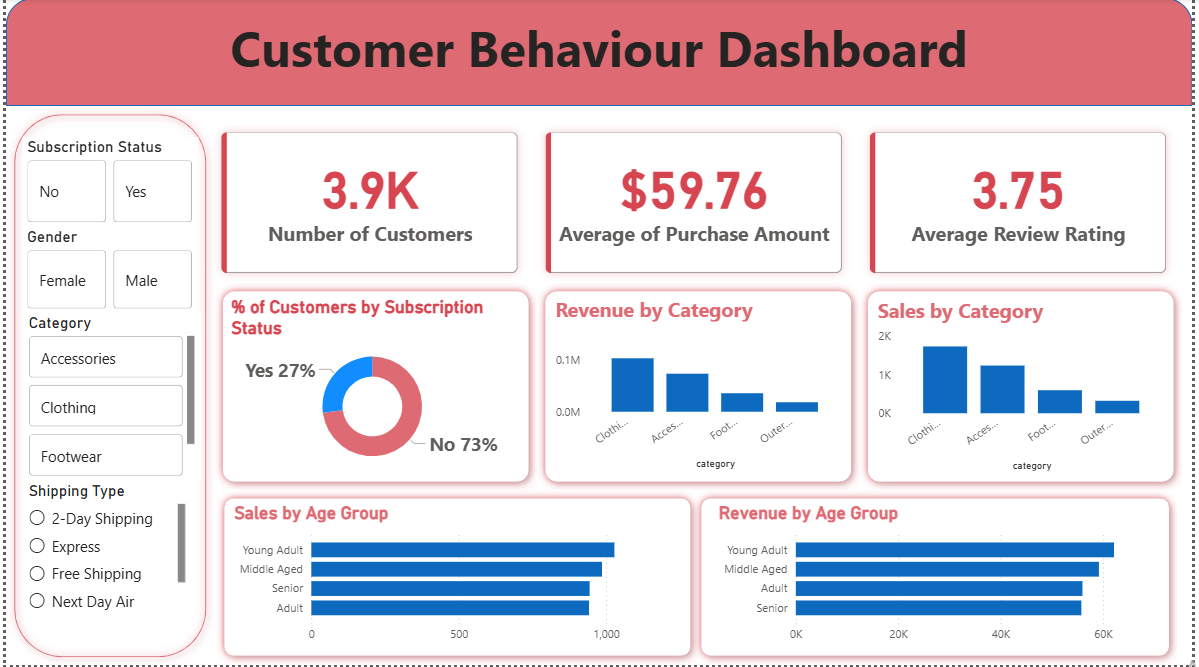

What the dashboard file says about the page in this screenshot:
{"tool":"powerbi","page":{"name":"Page 1","canvas":[1280,720],"ordinal":0},"visuals":[{"type":"cardVisual","fields":{"Data":["public customer.Number of Customers","public customer.Average of Purchase Amount","public customer.Average Review Rating"]},"box":[204,116.6,1076.8,208.9],"z":0},{"type":"shape","box":[0,0,1280.8,116.6],"z":1000},{"type":"textbox","box":[0,11.3,1280.8,105.2],"z":2000},{"type":"textbox","box":[25.9,136,13,223.5],"z":3000},{"type":"shape","box":[225.1,307.7,348.1,223.5],"z":4000},{"type":"donutChart","title":"% of Customers by Subscription Status","fields":{"Category":["public customer.subscription_status"],"Y":["CountNonNull(public customer.customer_id)"]},"box":[238,322.2,314.1,192.7],"z":5000},{"type":"shape","box":[0,116,225.1,604],"z":6000},{"type":"shape","box":[573.2,307.7,348.1,223.5],"z":7000},{"type":"shape","box":[921.3,307.7,348.1,223.5],"z":8000},{"type":"advancedSlicerVisual","fields":{"Values":["public customer.subscription_status"]},"box":[18.1,150.1,189.7,97.3],"z":9000},{"type":"clusteredColumnChart","title":"Revenue by Category","fields":{"Y":["Sum(public customer.purchase_amount)"],"Category":["public customer.category"]},"box":[587.8,320.6,319,192.7],"z":10000},{"type":"clusteredColumnChart","title":"Sales by Category","fields":{"Y":["CountNonNull(public customer.customer_id)"],"Category":["public customer.category"]},"box":[935.9,322.2,319,192.7],"z":11000},{"type":"shape","box":[226,531.1,521.2,188],"z":12000},{"type":"advancedSlicerVisual","fields":{"Values":["public customer.gender"]},"box":[18.1,247.4,189.7,92.4],"z":13000},{"type":"advancedSlicerVisual","fields":{"Values":["public customer.category"]},"box":[19.8,339.8,189.7,181.4],"z":14000},{"type":"listSlicer","fields":{"Values":["public customer.shipping_type"]},"box":[19.8,521.2,179.8,153.4],"z":15000},{"type":"shape","box":[742.3,531.1,522.9,188],"z":16000},{"type":"clusteredBarChart","title":"Revenue by Age Group","fields":{"Y":["Sum(public customer.purchase_amount)"],"Category":["public customer.age_group"]},"box":[763.7,544.3,489.9,160],"z":17000},{"type":"clusteredBarChart","title":"Sales by Age Group","fields":{"Y":["CountNonNull(public customer.customer_id)"],"Category":["public customer.age_group"]},"box":[240.8,544.3,489.9,160],"z":18000}]}

Visuals, with their boxes in screenshot pixels (x1, y1, x2, y2), scaled from the page's 1280x720 canvas onto the 1199x667 screenshot:
cardVisual - public customer.Number of Customers x public customer.Average of Purchase Amount: l=191, t=108, r=1198, b=302
shape: l=0, t=0, r=1198, b=108
textbox: l=0, t=10, r=1198, b=108
textbox: l=24, t=126, r=36, b=333
shape: l=211, t=285, r=537, b=492
"% of Customers by Subscription Status" donutChart: l=223, t=298, r=517, b=477
shape: l=0, t=107, r=211, b=666
shape: l=537, t=285, r=863, b=492
shape: l=863, t=285, r=1189, b=492
advancedSlicerVisual - public customer.subscription_status: l=17, t=139, r=195, b=229
"Revenue by Category" clusteredColumnChart: l=551, t=297, r=849, b=476
"Sales by Category" clusteredColumnChart: l=877, t=298, r=1175, b=477
shape: l=212, t=492, r=700, b=666
advancedSlicerVisual - public customer.gender: l=17, t=229, r=195, b=315
advancedSlicerVisual - public customer.category: l=19, t=315, r=196, b=483
listSlicer - public customer.shipping_type: l=19, t=483, r=187, b=625
shape: l=695, t=492, r=1185, b=666
"Revenue by Age Group" clusteredBarChart: l=715, t=504, r=1174, b=652
"Sales by Age Group" clusteredBarChart: l=226, t=504, r=684, b=652
